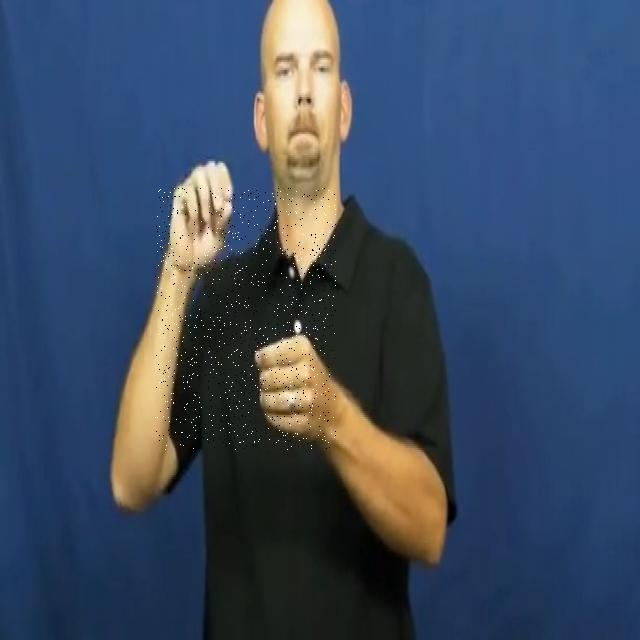soda: (155, 188, 336, 450)
